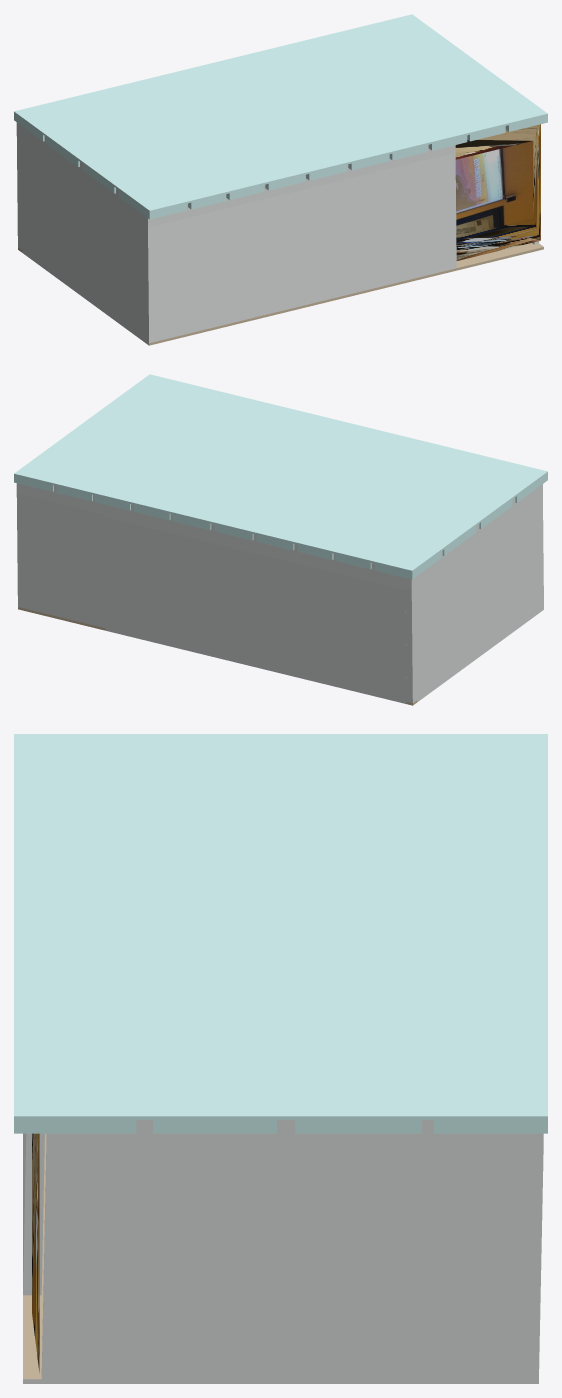
The model's file is museo.glb.
The picture shows the model from 3 angles, top to bottom: view 1: azimuth 30°, elevation 25°; view 2: azimuth 150°, elevation 25°; view 3: azimuth 270°, elevation 25°; orthographic projection. The views are drawn at different scales.
Visible parts, largest first — view 1: Cube.001, Cubo, Cube; view 2: Cubo, Cube.001; view 3: Cube.001, Cubo, Cube.
Boxes of the visible parts, box(x1,y1,x2,y2) form: Cube.001: box(14, 14, 547, 219); Cubo: box(16, 122, 543, 345); Cube: box(455, 124, 540, 260); Cubo: box(16, 483, 543, 705); Cube.001: box(14, 374, 547, 579); Cube.001: box(14, 734, 547, 1133); Cubo: box(23, 1120, 543, 1383); Cube: box(32, 1133, 39, 1373).
Bounding box in the file's own units: 14 × 4.6 × 8.26.
5 materials, 1 textured.
